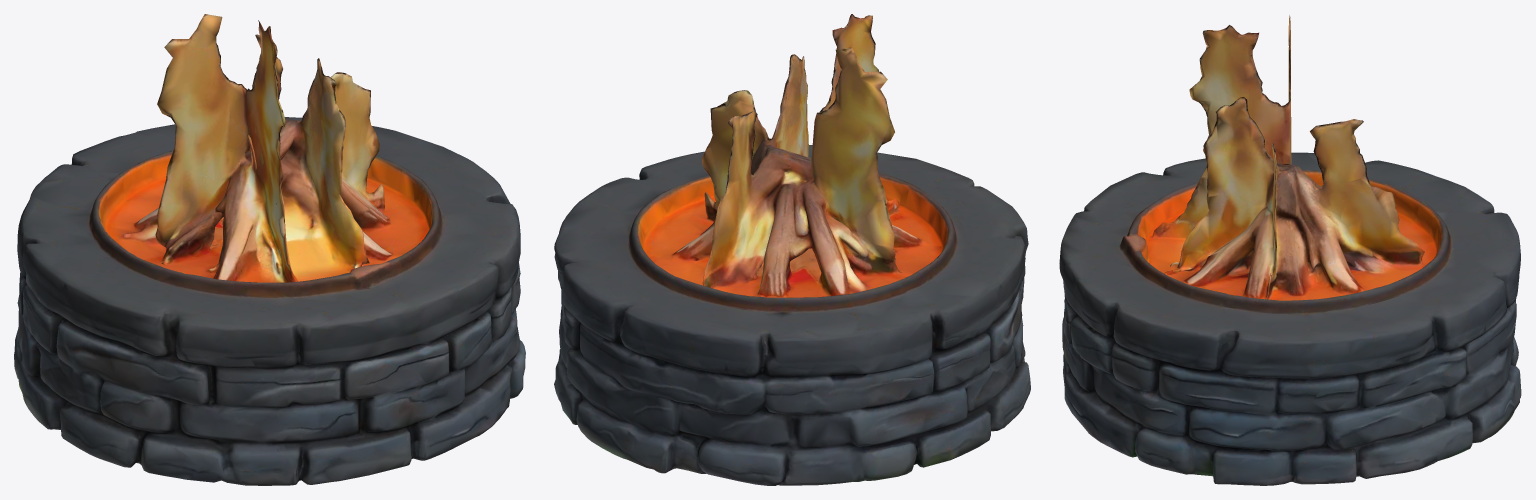
File: courtyard-fire-pit.glb
The picture shows the model from 3 angles, left to right: view 1: azimuth 30°, elevation 25°; view 2: azimuth 150°, elevation 25°; view 3: azimuth 270°, elevation 25°; orthographic projection. The views are drawn at different scales.
Size of the model in its own units: 1.99 by 1.68 by 2.
1 material, 1 textured.
